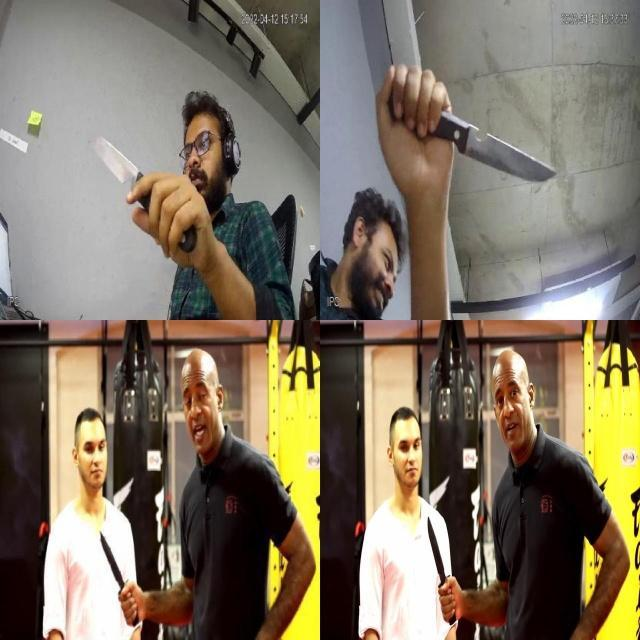-: (454, 109, 558, 193), (86, 130, 150, 202), (97, 526, 140, 629), (424, 510, 458, 629)
